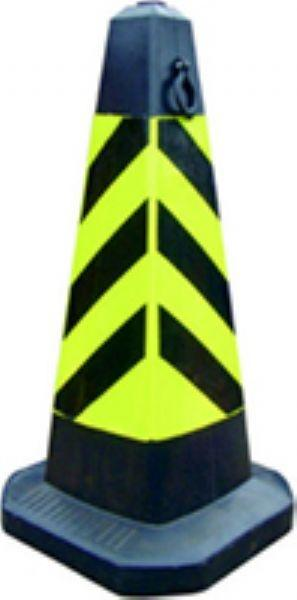cone_barrel: (35, 0, 258, 568)
